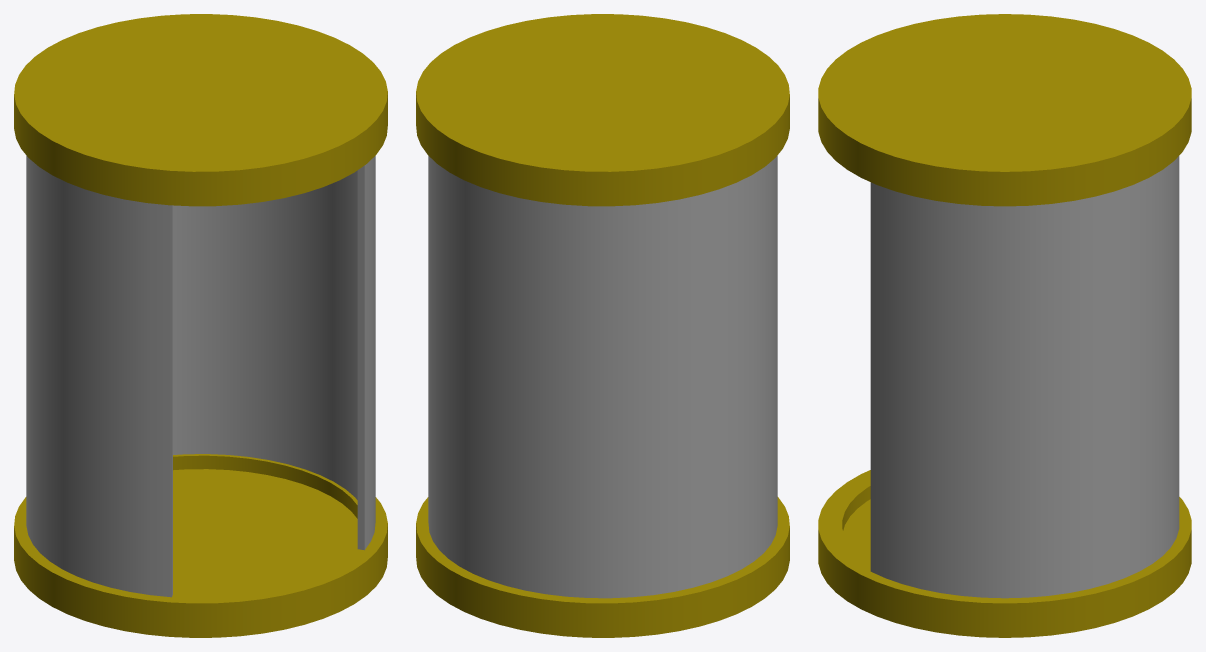
The model's file is Elevator Cylidrical.fbx.
3 renders of one model, left to right at view 1: azimuth 30°, elevation 25°; view 2: azimuth 150°, elevation 25°; view 3: azimuth 270°, elevation 25°, orthographic.
Parts seen in each view (by area): view 1: polySurface187; view 2: polySurface187; view 3: polySurface187.
Boxes of the visible parts, <box> form: polySurface187: <box>14,14,387,637</box>; polySurface187: <box>416,14,789,637</box>; polySurface187: <box>818,14,1191,637</box>.
Bounding box in the file's own units: 169 × 232 × 168.
